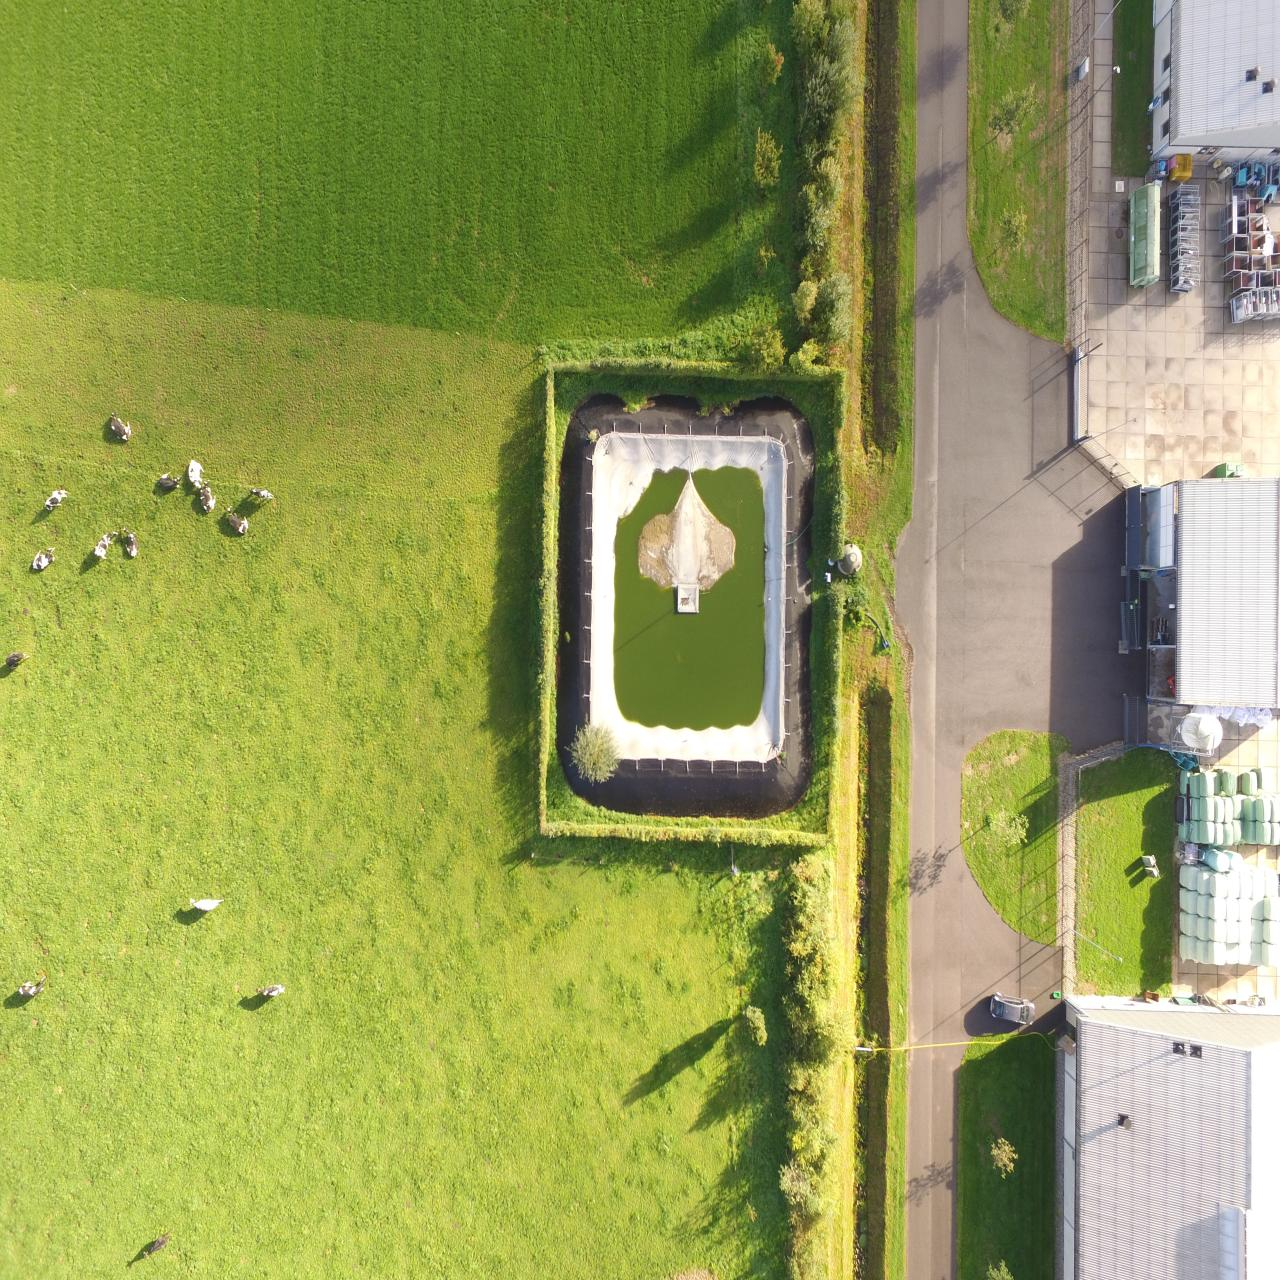cow: (98, 410, 135, 448), (141, 1226, 175, 1261), (219, 505, 252, 540), (87, 527, 120, 560), (14, 971, 47, 1001), (26, 545, 60, 572), (148, 469, 179, 497), (39, 486, 70, 513), (120, 522, 141, 560), (189, 893, 229, 913), (247, 481, 278, 505), (178, 458, 203, 489), (196, 484, 217, 516), (4, 649, 30, 672), (256, 981, 286, 998)
